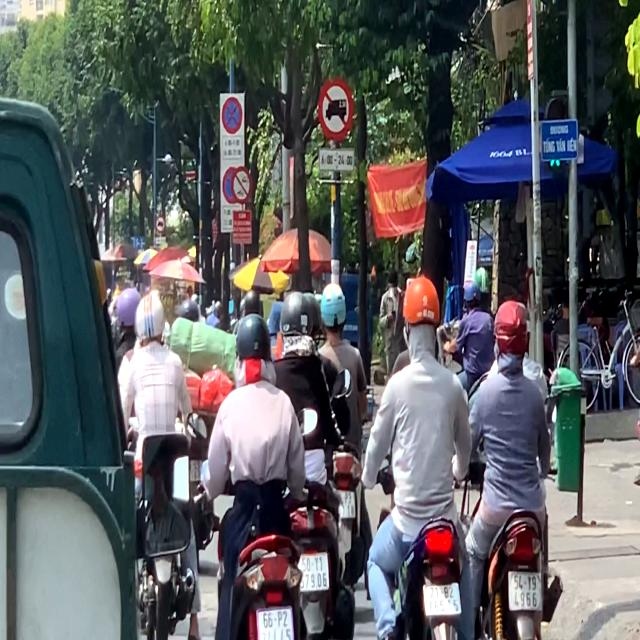P.106b: (318, 77, 358, 142)
P.130: (220, 96, 243, 136)
